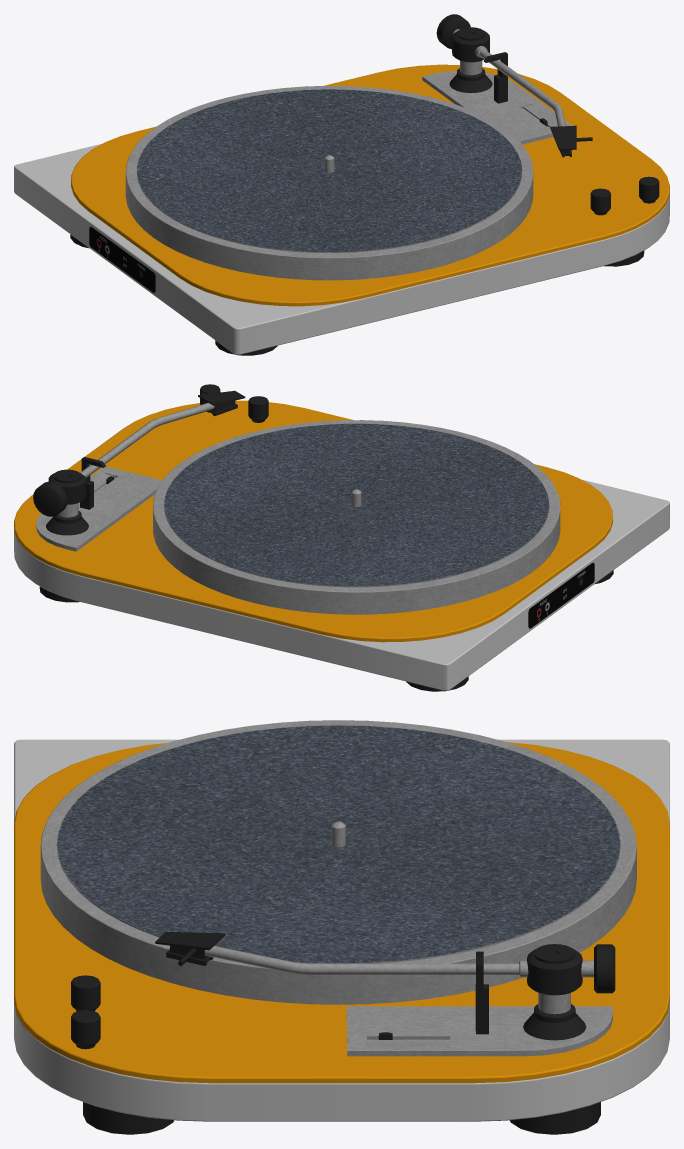
The model's file is recordPlayer.gltf.
3 views of the same model, one above another, from view 1: azimuth 30°, elevation 25°; view 2: azimuth 150°, elevation 25°; view 3: azimuth 270°, elevation 25° (orthographic). The views are drawn at different scales.
Parts seen in each view (by area): view 1: recordPlayer; view 2: recordPlayer; view 3: recordPlayer.
Boxes of the visible parts, left/top/right/bottom form: recordPlayer: left=14, top=14, right=669, bottom=355; recordPlayer: left=14, top=384, right=669, bottom=691; recordPlayer: left=14, top=720, right=669, bottom=1134.
Bounding box in the file's own units: 0.4118 × 0.0949 × 0.33.
3 materials, 1 textured.
